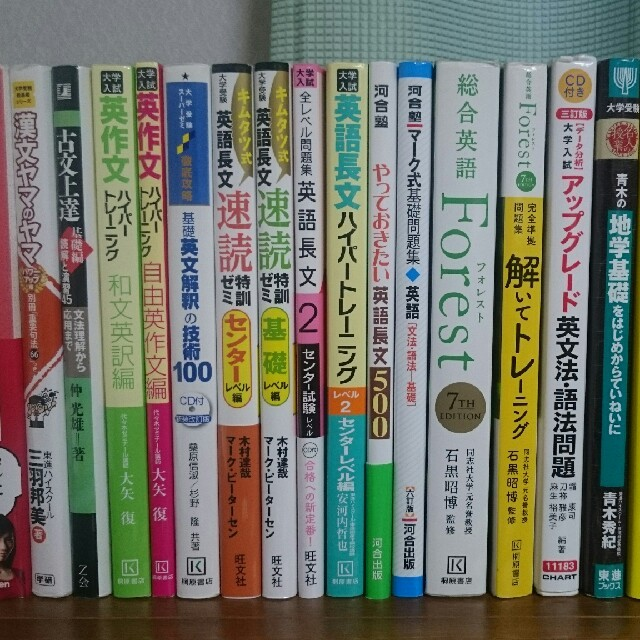book: (425, 58, 500, 603), (484, 59, 550, 599), (318, 59, 372, 602), (210, 61, 261, 606), (385, 53, 433, 602), (251, 56, 295, 599), (363, 58, 401, 603), (290, 62, 326, 600)
